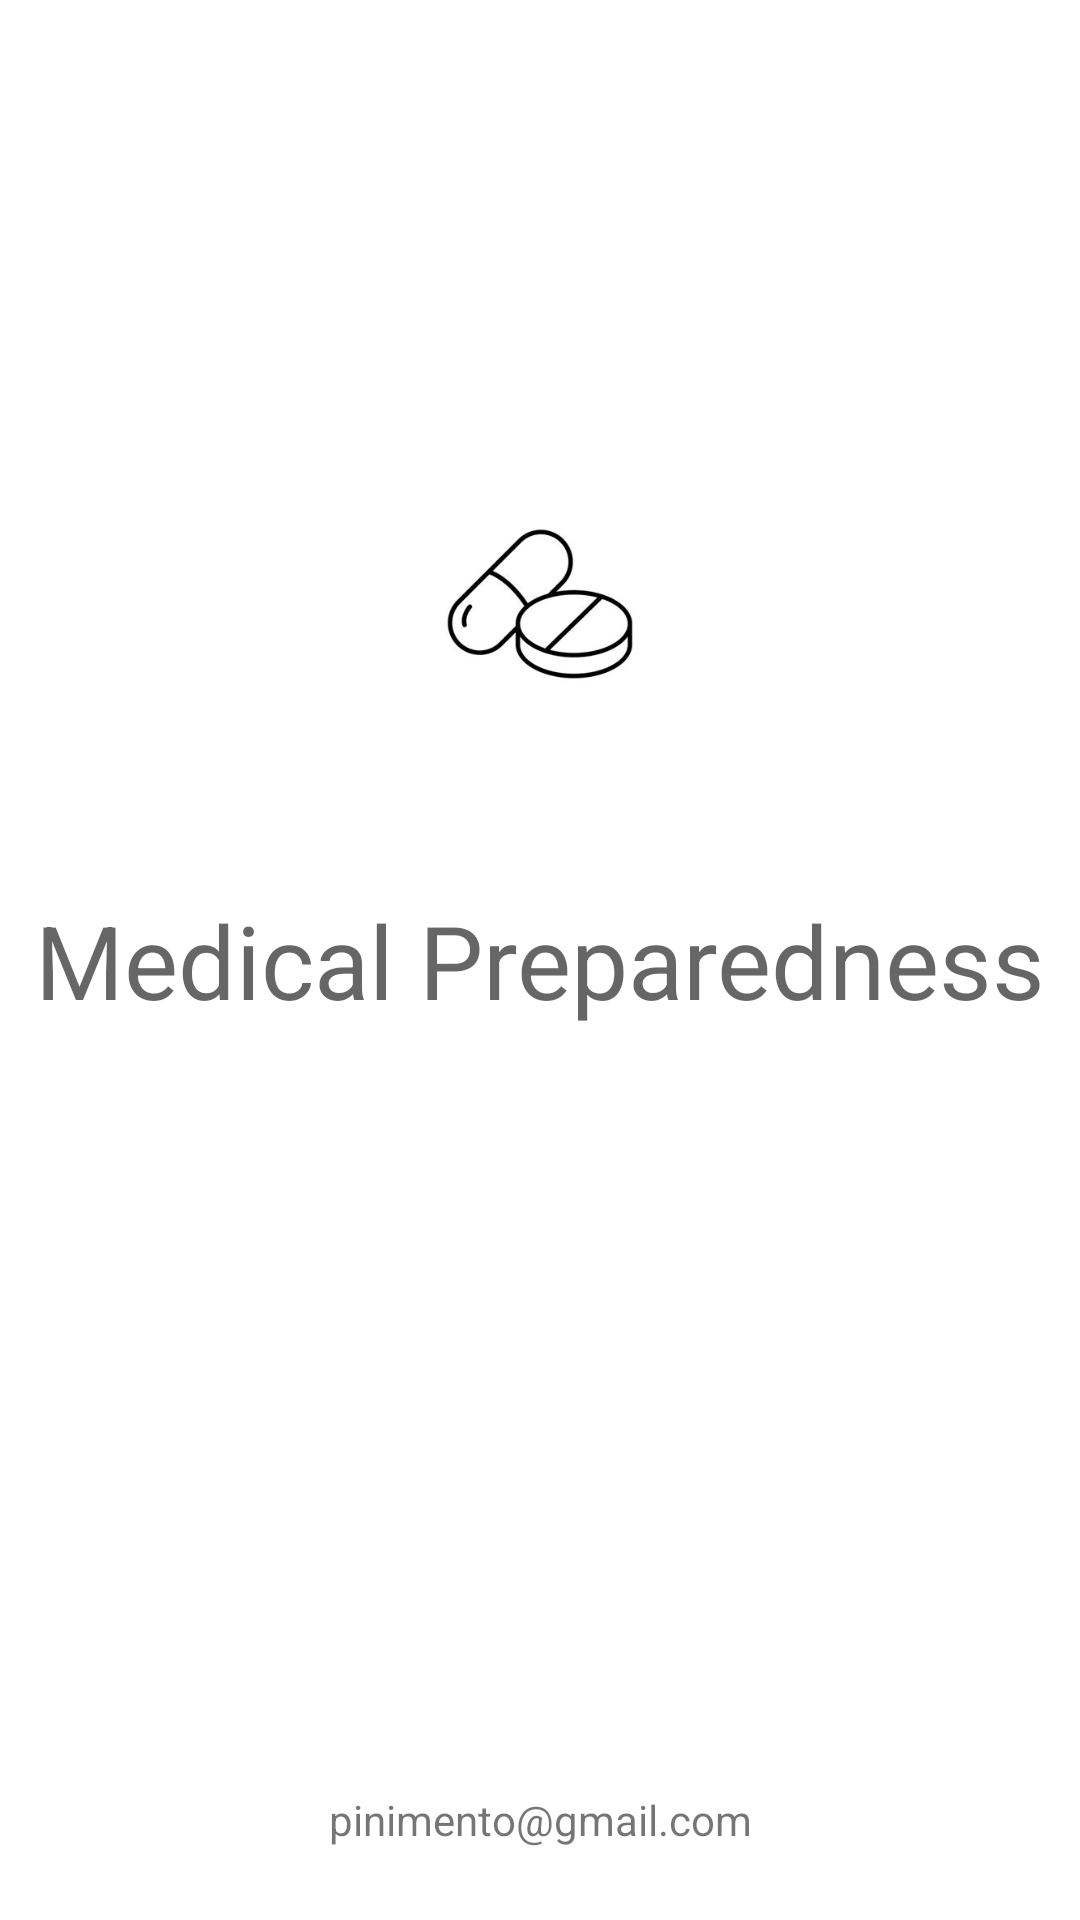

Point at icon controls on the screen. Image size 1080 x 1920, points as point (x, y).
pill: point (540, 604)
